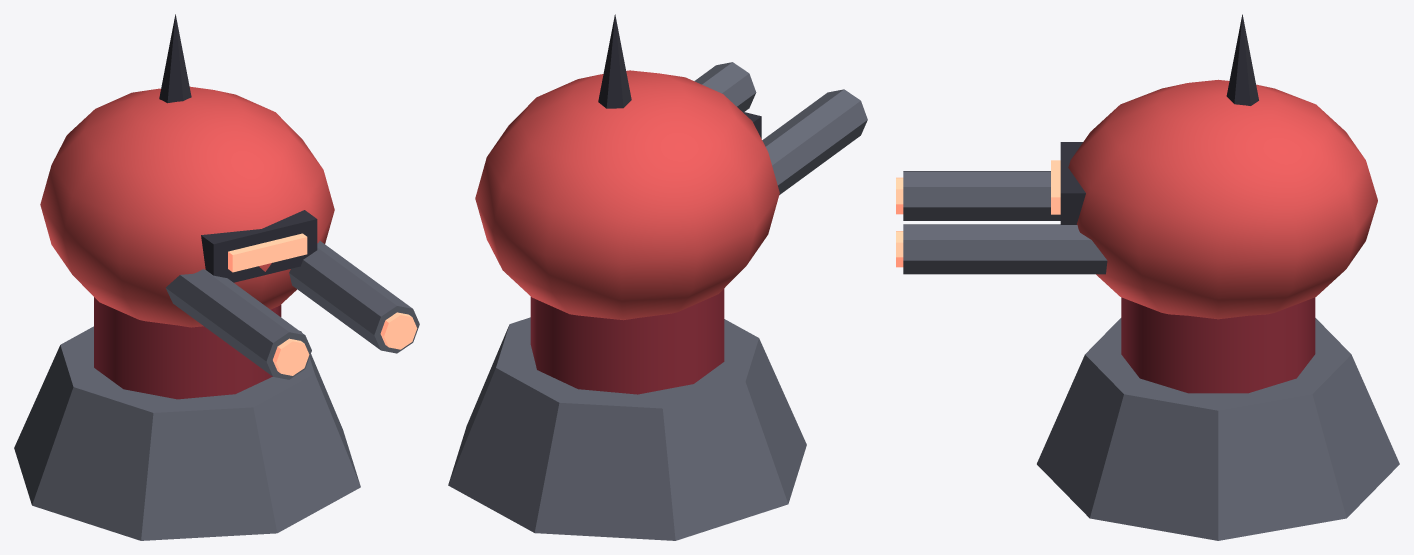
File: turret.glb
The picture shows the model from 3 angles, left to right: view 1: azimuth 30°, elevation 25°; view 2: azimuth 150°, elevation 25°; view 3: azimuth 270°, elevation 25°; orthographic projection. The views are drawn at different scales.
Visible parts, largest first — view 1: torso; view 2: torso; view 3: torso.
Part boxes in pixels (<box>): torso: <box>14,14,419,540</box>; torso: <box>448,14,867,540</box>; torso: <box>896,14,1399,540</box>.
Bounding box in the file's own units: 1.5 × 2.05 × 2.08.
